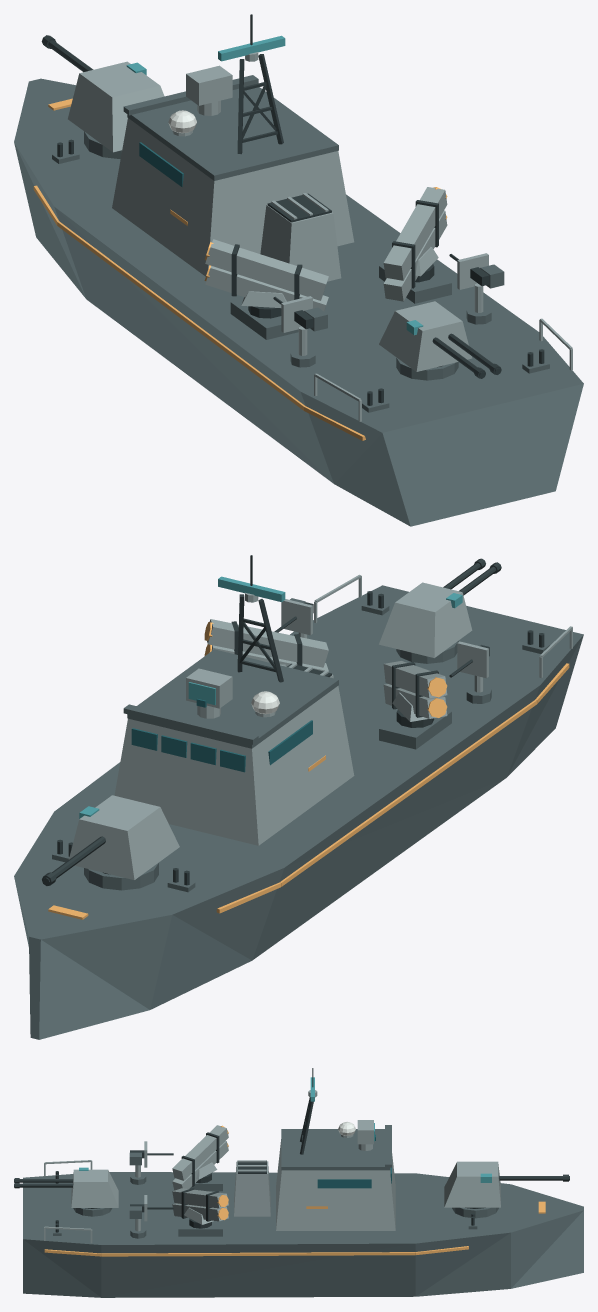
Rendered from ESC_STK_T2.fbx.
3 renders of one model, top to bottom at view 1: azimuth 30°, elevation 25°; view 2: azimuth 150°, elevation 25°; view 3: azimuth 270°, elevation 25°, orthographic. The views are drawn at different scales.
Visible parts, largest first — view 1: ContinuousHull.002, Deckhouse.002, Roof.002, PrimaryGunCupola.002, AftGunCupola.002, FunnelEnclosure.002, MissileBankPortTube2, MissileBankStarboardTube2, RoleHullStripe-1_1.002, FireControlHousing.001, MissileBankPortTube1.001, MissileBankPortFoundation.001 (+9 smaller); view 2: ContinuousHull.002, Deckhouse.002, Roof.002, PrimaryGunCupola.002, AftGunCupola.002, MissileBankStarboardTube2, RoleHullStripe-1_1.002, BridgeBrow.002, MissileBankPortFoundation.001, MissileBankPortTube2, FireControlHousing.001, PrimaryGunFoundation.002 (+5 smaller); view 3: ContinuousHull.002, Deckhouse.002, Roof.002, PrimaryGunCupola.002, AftGunCupola.002, FunnelEnclosure.002, RoleHullStripe1_1.002, MissileBankPortTube2, MissileBankStarboardTube2, MissileBankStarboardFoundation.001, BridgeSideGlass1.002, MissileBankPortTube1.001 (+5 smaller).
Boxes of the visible parts, x1=… form: ContinuousHull.002: x1=14, y1=78, x2=583, y2=526; Deckhouse.002: x1=112, y1=118, x2=354, y2=276; Roof.002: x1=127, y1=87, x2=338, y2=180; PrimaryGunCupola.002: x1=68, y1=61, x2=164, y2=152; AftGunCupola.002: x1=379, y1=301, x2=472, y2=371; FunnelEnclosure.002: x1=260, y1=204, x2=341, y2=281; MissileBankPortTube2: x1=205, y1=239, x2=328, y2=300; MissileBankStarboardTube2: x1=383, y1=187, x2=447, y2=280; RoleHullStripe-1_1.002: x1=57, y1=221, x2=305, y2=410; FireControlHousing.001: x1=186, y1=65, x2=232, y2=105; MissileBankPortTube1.001: x1=205, y1=266, x2=328, y2=311; MissileBankPortFoundation.001: x1=230, y1=299, x2=298, y2=339; ContinuousHull.002: x1=14, y1=585, x2=583, y2=1039; Deckhouse.002: x1=114, y1=686, x2=354, y2=845; Roof.002: x1=127, y1=649, x2=338, y2=748; PrimaryGunCupola.002: x1=68, y1=795, x2=179, y2=880; AftGunCupola.002: x1=379, y1=582, x2=472, y2=657; MissileBankStarboardTube2: x1=207, y1=619, x2=328, y2=667; RoleHullStripe-1_1.002: x1=279, y1=700, x2=536, y2=886; BridgeBrow.002: x1=123, y1=704, x2=258, y2=744; MissileBankPortFoundation.001: x1=379, y1=710, x2=451, y2=749; MissileBankPortTube2: x1=383, y1=661, x2=447, y2=698; FireControlHousing.001: x1=186, y1=668, x2=232, y2=708; PrimaryGunFoundation.002: x1=84, y1=862, x2=158, y2=890; ContinuousHull.002: x1=23, y1=1172, x2=583, y2=1297; Deckhouse.002: x1=276, y1=1139, x2=395, y2=1230; Roof.002: x1=281, y1=1129, x2=390, y2=1170; PrimaryGunCupola.002: x1=444, y1=1161, x2=500, y2=1207; AftGunCupola.002: x1=71, y1=1169, x2=118, y2=1207; FunnelEnclosure.002: x1=234, y1=1161, x2=270, y2=1216; RoleHullStripe1_1.002: x1=101, y1=1252, x2=415, y2=1256; MissileBankPortTube2: x1=172, y1=1125, x2=228, y2=1180; MissileBankStarboardTube2: x1=172, y1=1188, x2=228, y2=1208; MissileBankStarboardFoundation.001: x1=178, y1=1218, x2=222, y2=1236; BridgeSideGlass1.002: x1=317, y1=1179, x2=371, y2=1188; MissileBankPortTube1.001: x1=172, y1=1141, x2=228, y2=1190.
Size of the model in its own units: 281 by 360 by 914.
